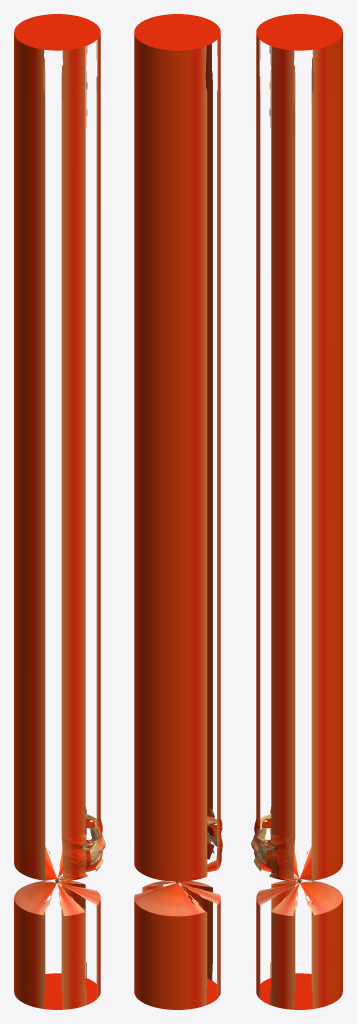
The model's file is mcp3.fbx.
3 renders of one model, left to right at view 1: azimuth 90°, elevation 25°; view 2: azimuth 150°, elevation 25°; view 3: azimuth 270°, elevation 25°, orthographic.
Parts seen in each view (by area): view 1: MasterControlProgram:Mesh; view 2: MasterControlProgram:Mesh; view 3: MasterControlProgram:Mesh.
Boxes of the visible parts, left/top/right/bottom form: MasterControlProgram:Mesh: left=14, top=14, right=105, bottom=1009; MasterControlProgram:Mesh: left=134, top=14, right=222, bottom=1009; MasterControlProgram:Mesh: left=251, top=14, right=342, bottom=1009.
Size of the model in its own units: 16.63 by 203 by 17.61.
2 materials, 2 textured.
